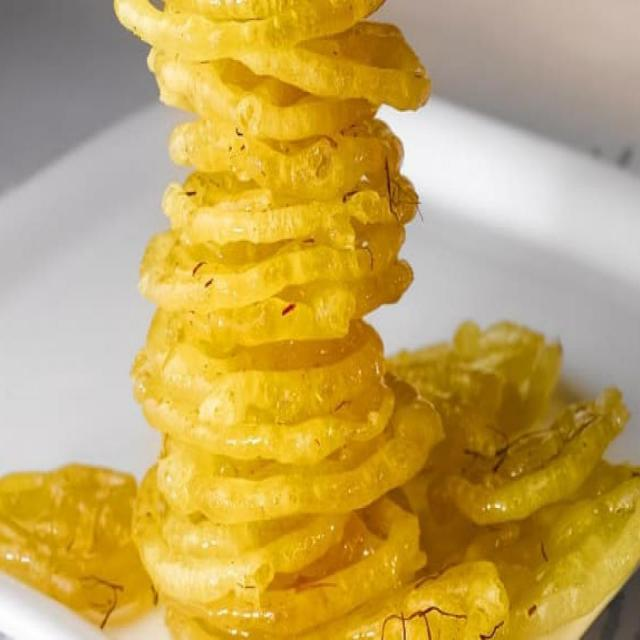jalebi: (112, 0, 447, 640), (402, 348, 631, 632), (1, 446, 174, 630)
